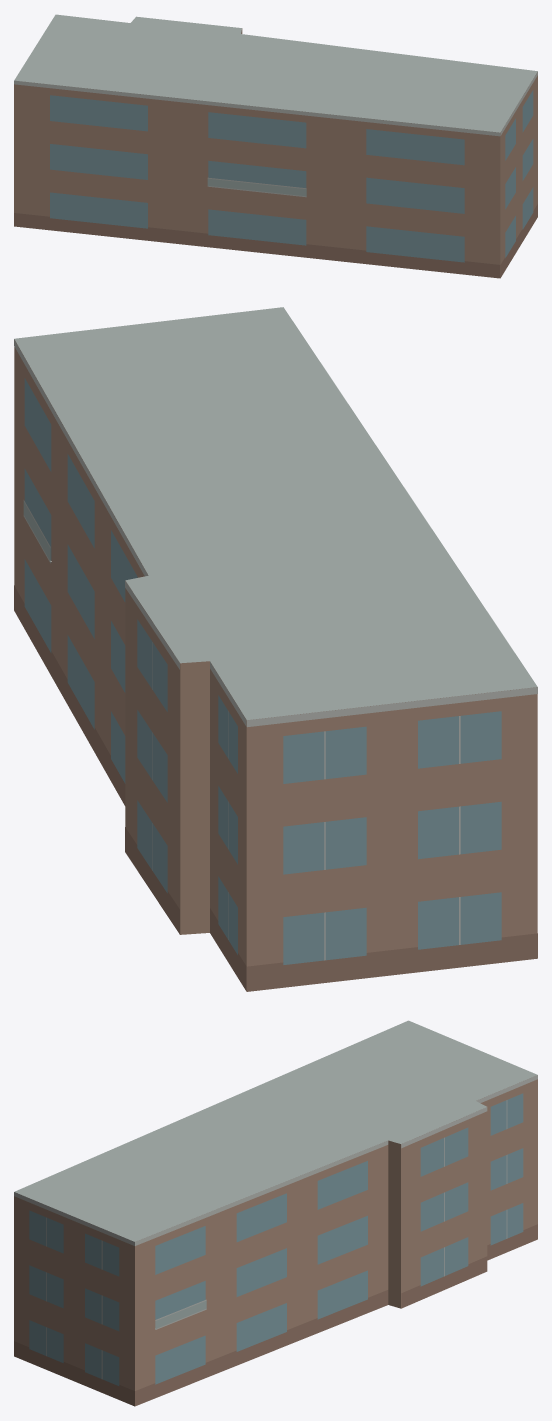
Rendered from survey-upis-32547182.glb.
The picture shows the model from 3 angles, top to bottom: view 1: azimuth 30°, elevation 25°; view 2: azimuth 150°, elevation 25°; view 3: azimuth 270°, elevation 25°; orthographic projection. The views are drawn at different scales.
Visible parts, largest first — view 1: survey-upis-32547182.tmp; view 2: survey-upis-32547182.tmp; view 3: survey-upis-32547182.tmp.
Boxes of the visible parts, x1,y1,x2,y2 form: survey-upis-32547182.tmp: (14, 14, 537, 278); survey-upis-32547182.tmp: (14, 307, 537, 991); survey-upis-32547182.tmp: (14, 1020, 537, 1406).
Size of the model in its own units: 27.15 by 9.4 by 27.14.
